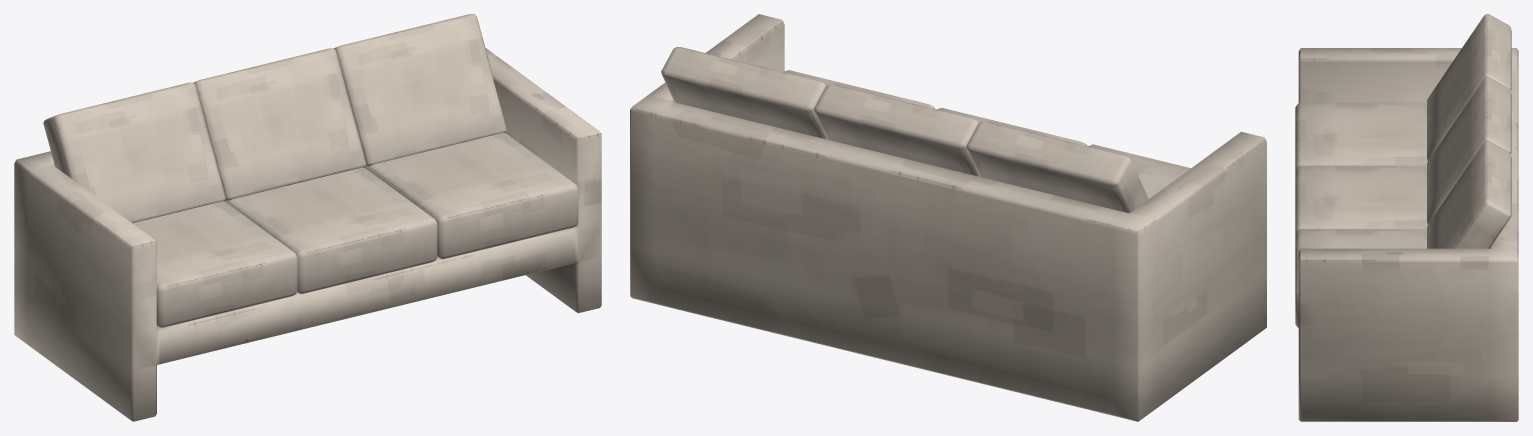
File: tf2_-_couch.glb
The picture shows the model from 3 angles, left to right: view 1: azimuth 30°, elevation 25°; view 2: azimuth 150°, elevation 25°; view 3: azimuth 270°, elevation 25°; orthographic projection. The views are drawn at different scales.
Visible parts, largest first — view 1: pillow06; view 2: pillow06; view 3: pillow06.
Part boxes in pixels (x1,y1,x2,y2): pillow06: (14,14,601,421); pillow06: (630,14,1266,421); pillow06: (1295,14,1518,421).
Bounding box in the file's own units: 10775 × 4955 × 4796.
Materials: 2 (2 with a texture image).
